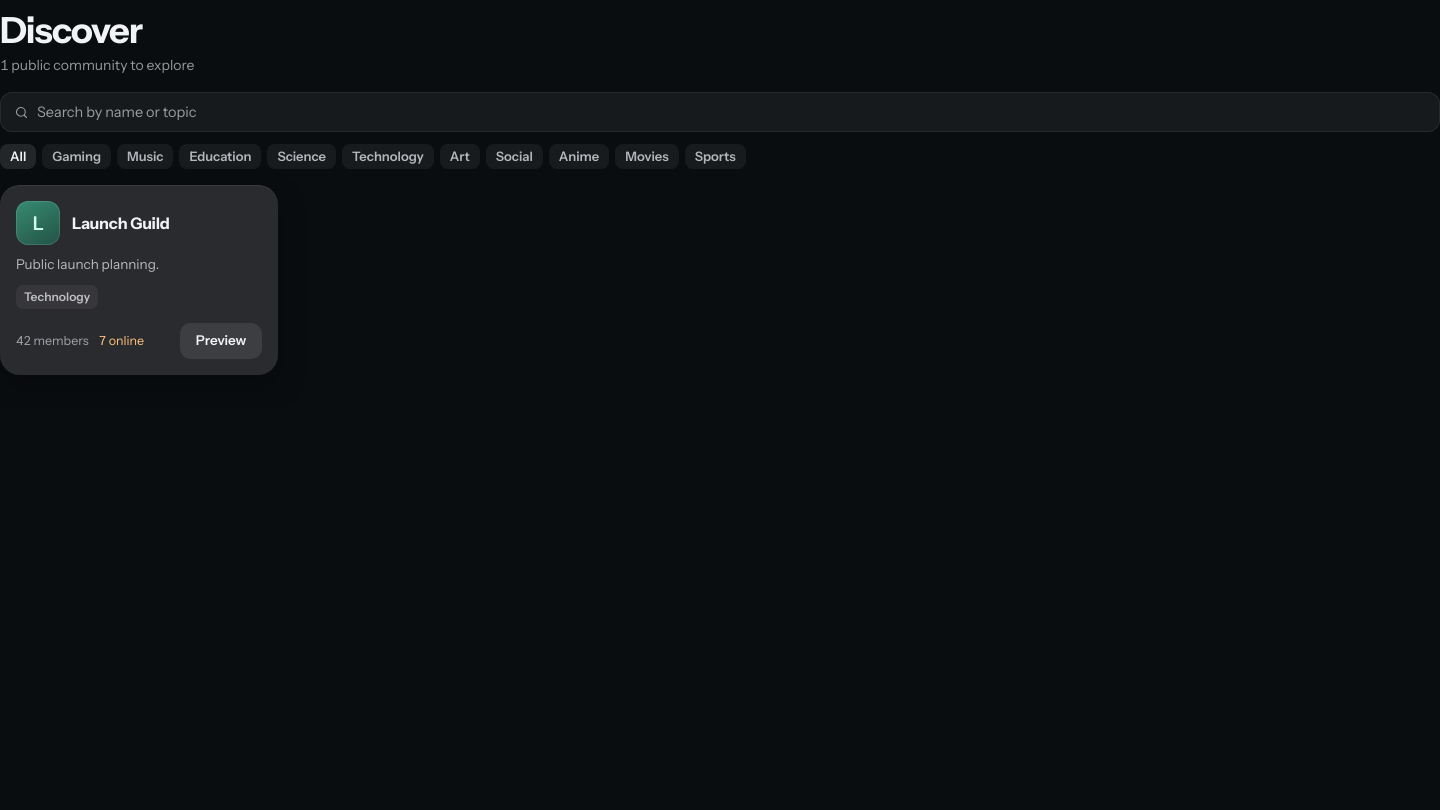
Test case: DiscoveryPage › shows concrete join errors inside the preview and keeps it open for retry
expect the heading "Launch Guild" is shown: met, box [72, 213, 170, 233]
Step 1. Click the button "Preview" → (221, 341), box [180, 323, 262, 359]
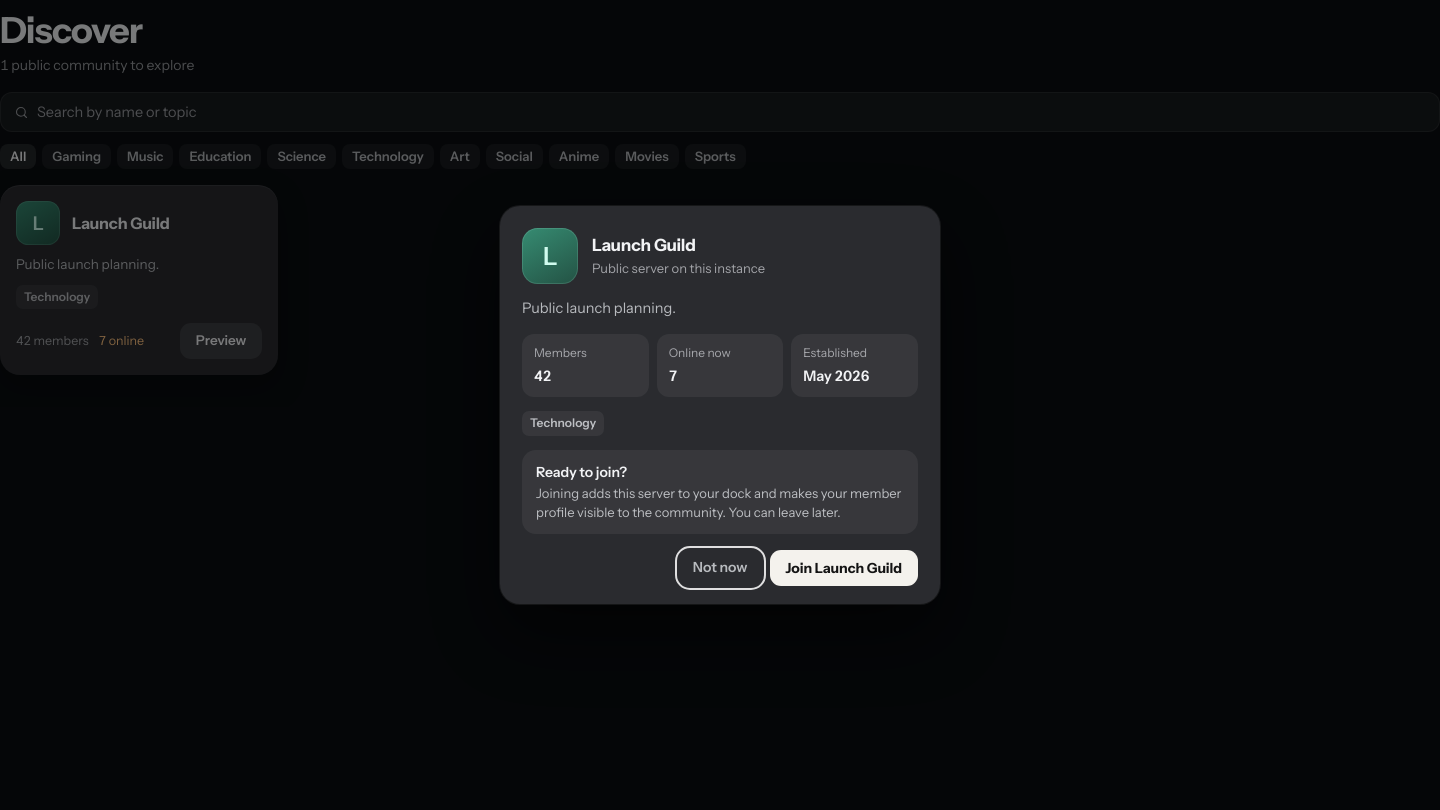
Step 2. Click the button "Join Launch Guild" → (844, 568), box [770, 550, 918, 586]
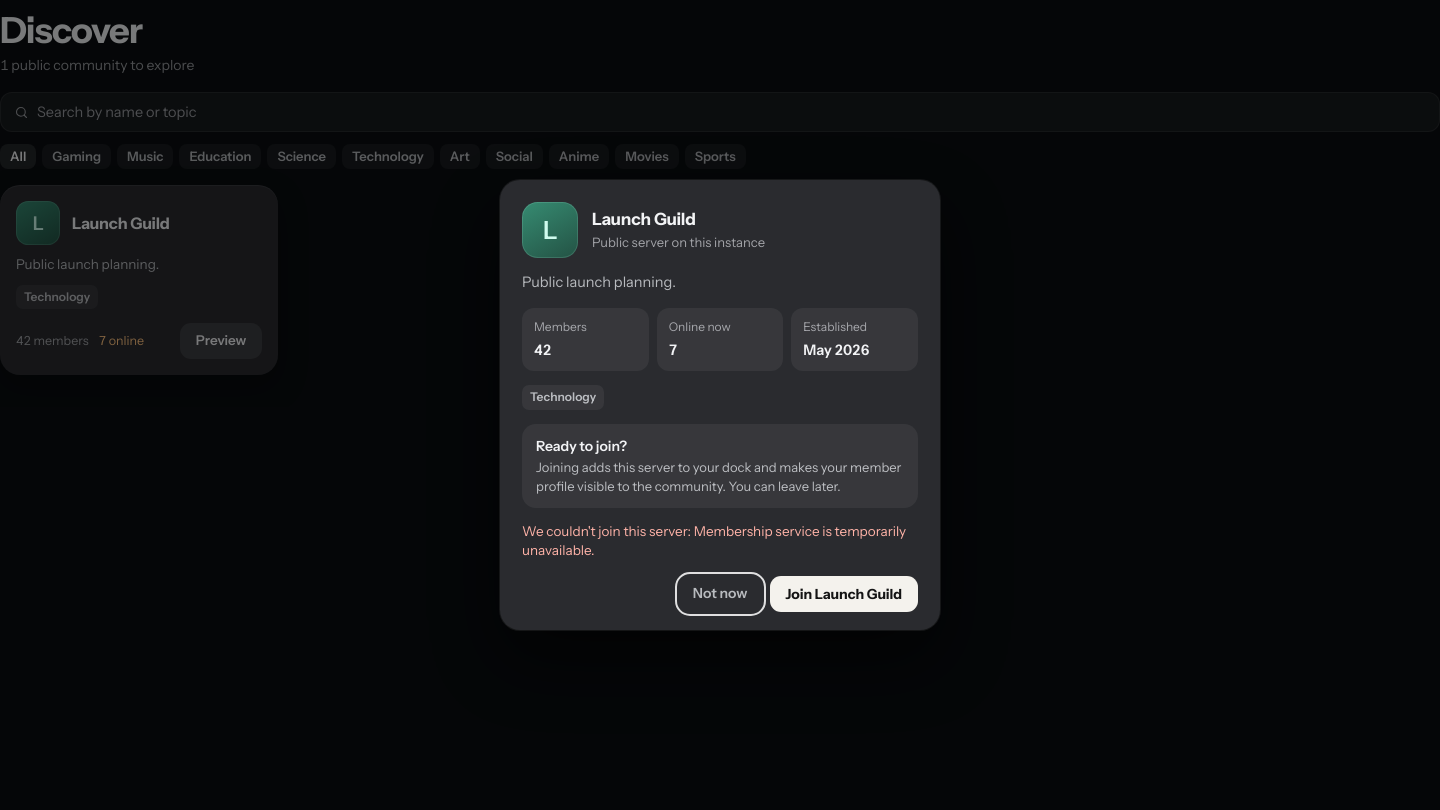
expect the dialog "Launch Guild" is shown: met, box [500, 180, 940, 630]
expect the message reads "We couldn't join this server: Membership service is temporarily unavailable.": met, box [522, 523, 906, 558]
